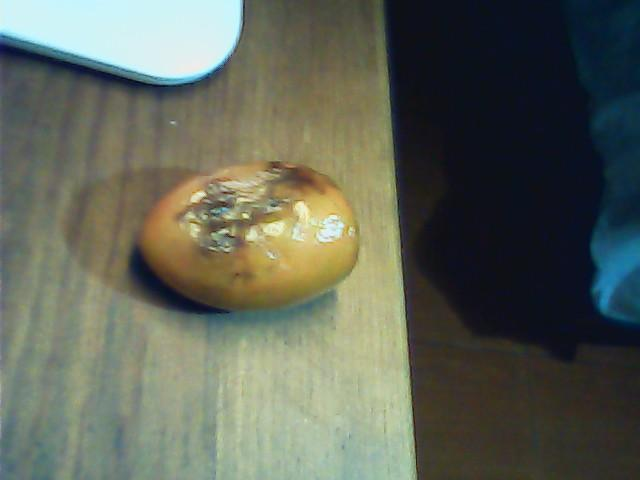defectuoso: (140, 158, 361, 307)
